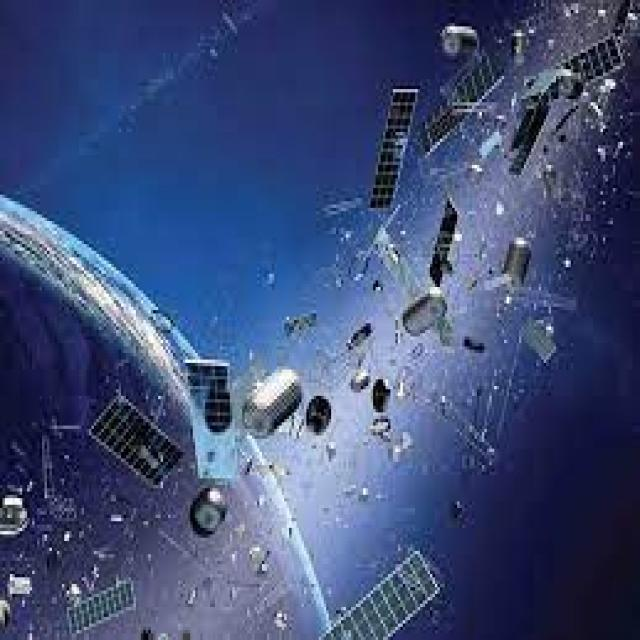large_debris: (45, 362, 427, 626), (320, 129, 516, 396), (449, 2, 618, 184)
